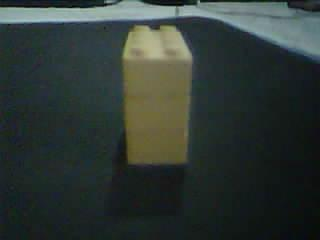lego: (120, 23, 195, 166)
